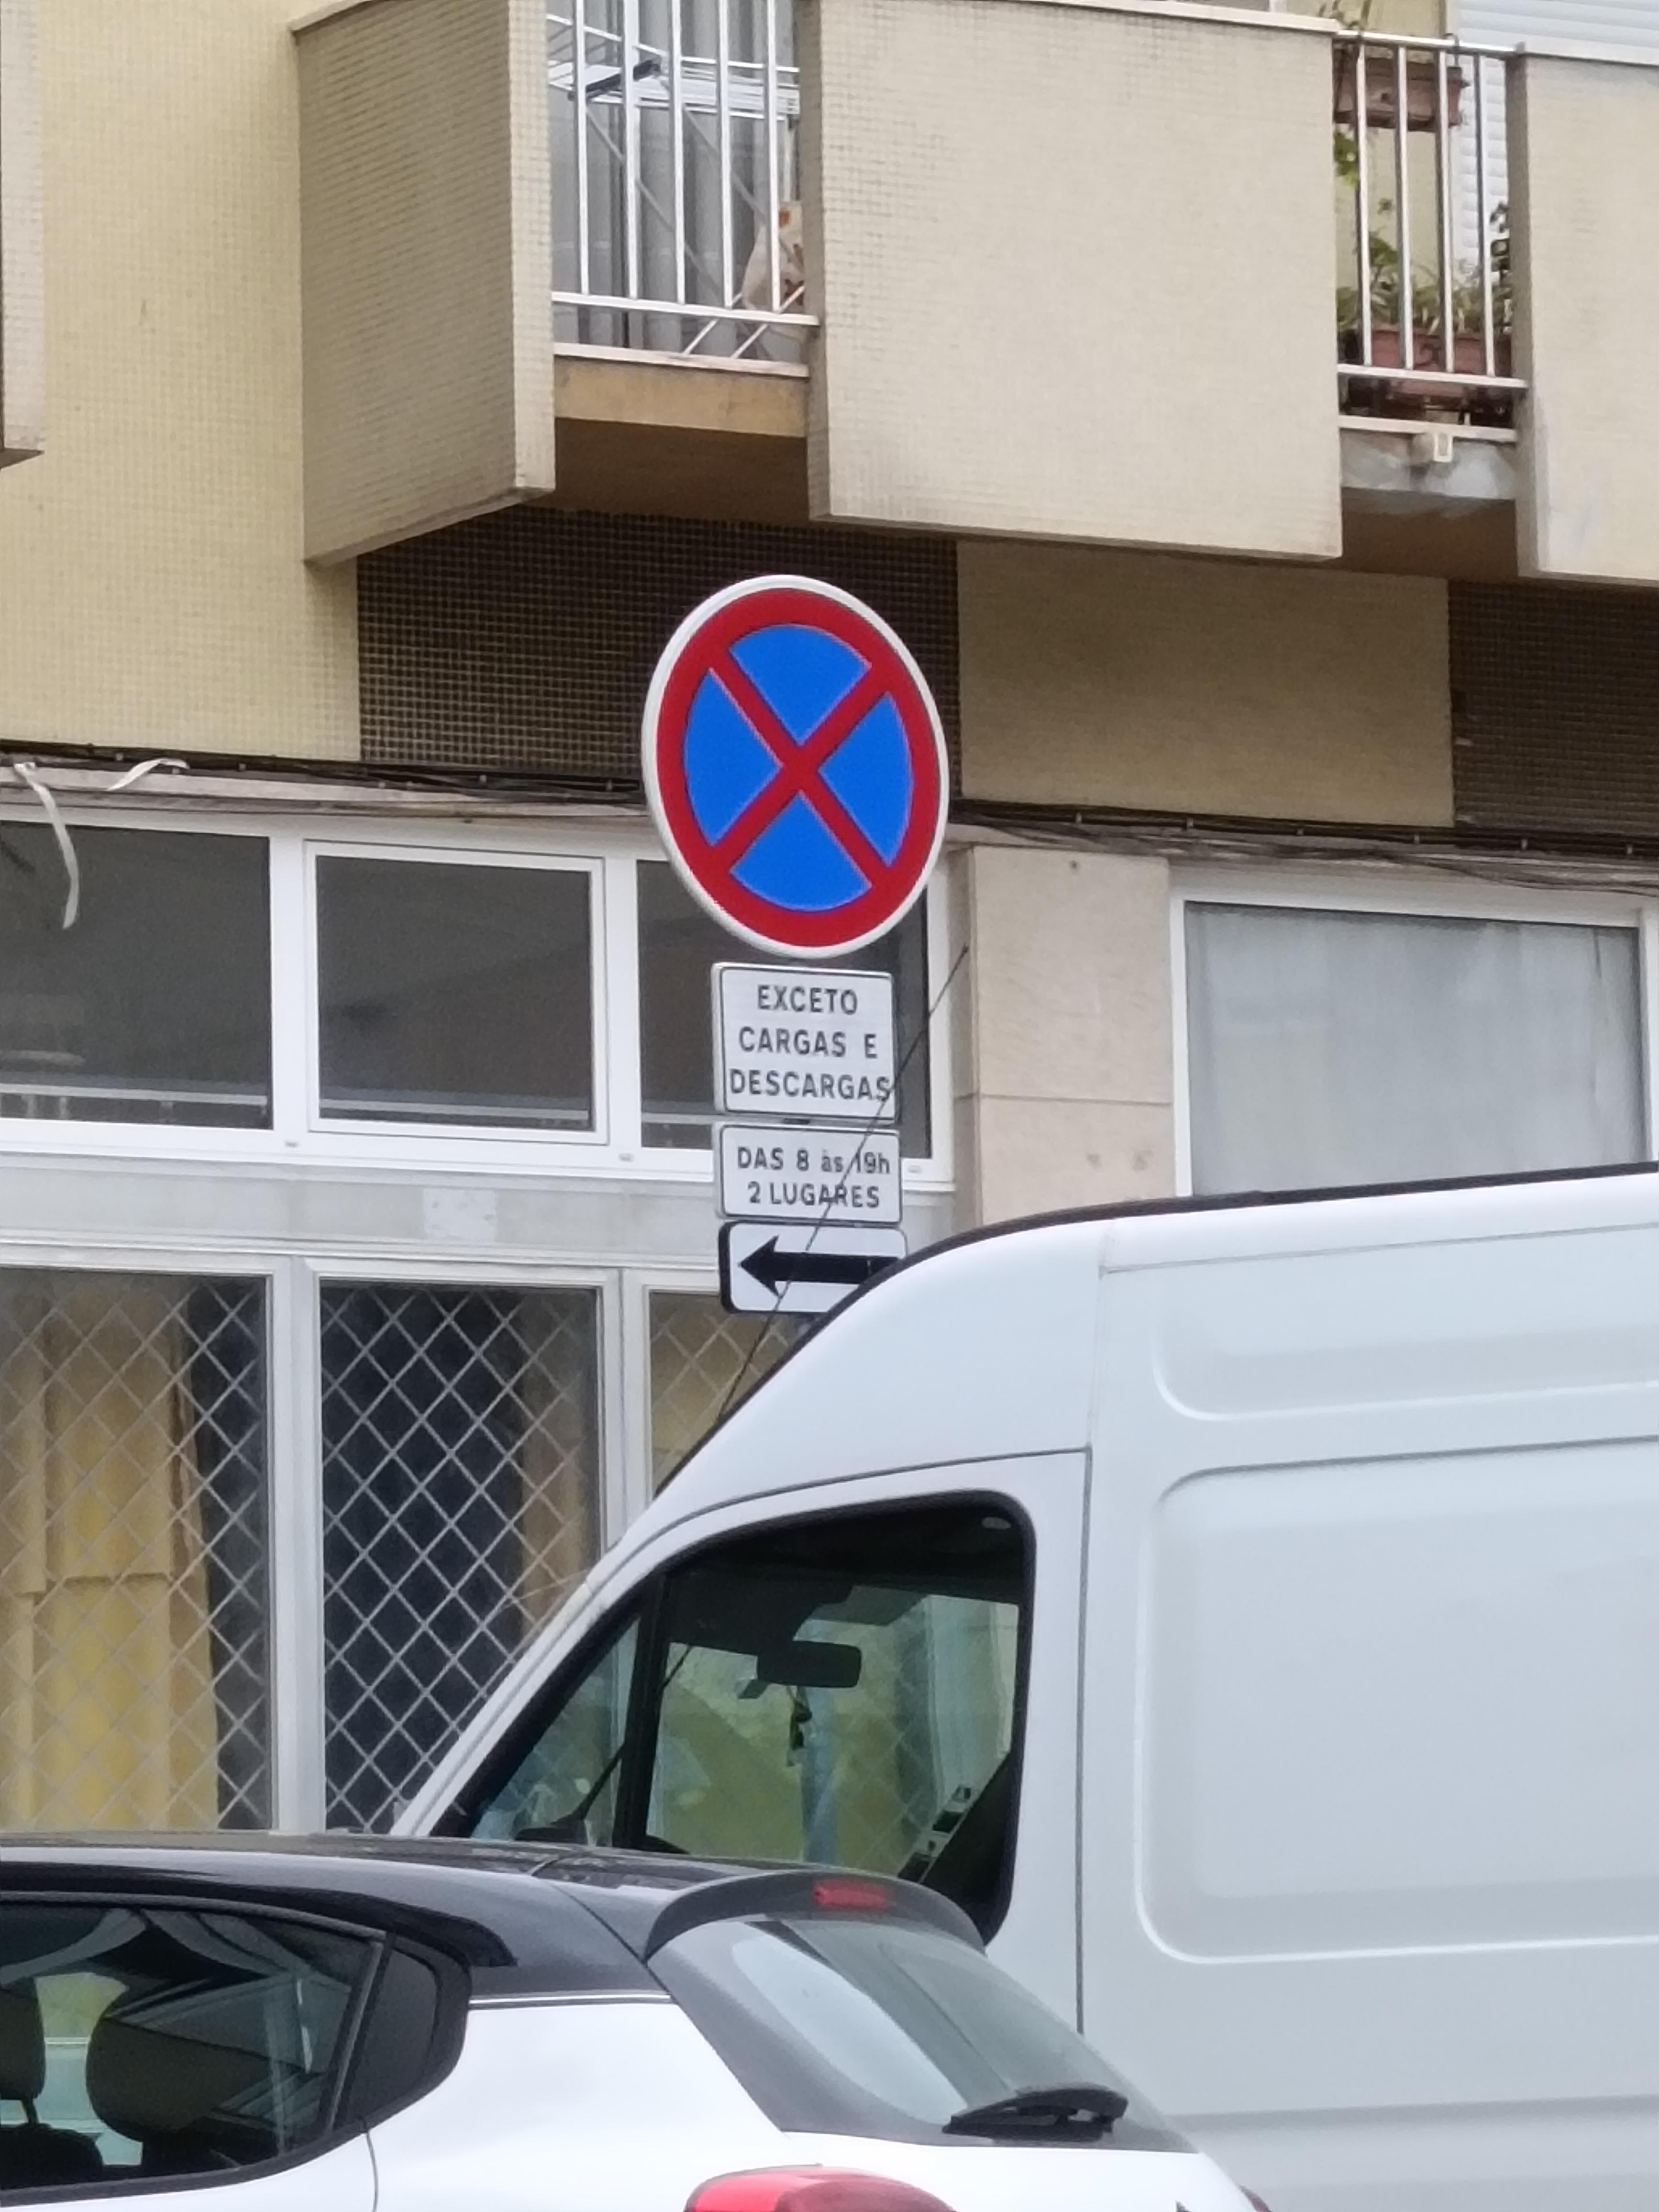Paragem e estacionamento proibidos: (608, 540, 976, 956)
